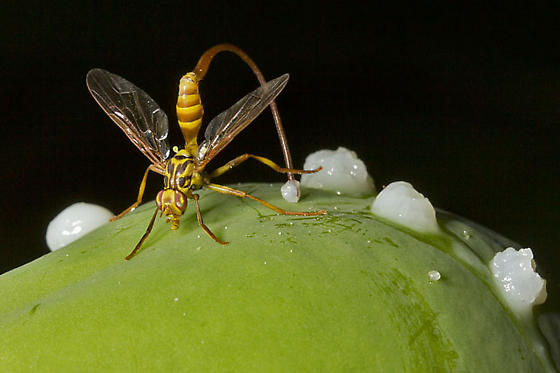Fruit fly: (117, 33, 290, 278)
